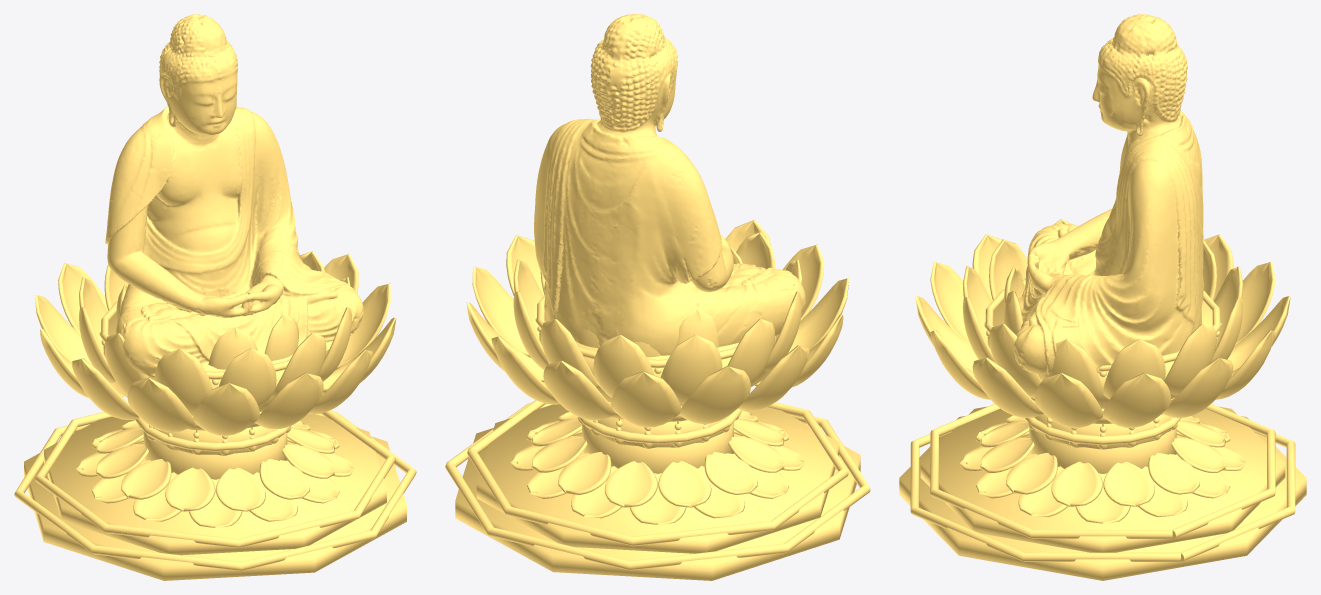
Rendered from amida_full.glb.
3 renders of one model, left to right at view 1: azimuth 30°, elevation 25°; view 2: azimuth 150°, elevation 25°; view 3: azimuth 270°, elevation 25°, orthographic. The views are drawn at different scales.
Visible parts, largest first — view 1: Lotus_Pedestal, Amida_Body; view 2: Lotus_Pedestal, Amida_Body; view 3: Lotus_Pedestal, Amida_Body.
Boxes of the visible parts, x1,y1,x2,y2 form: Lotus_Pedestal: (14, 249, 416, 580); Amida_Body: (105, 14, 363, 379); Lotus_Pedestal: (445, 220, 870, 580); Amida_Body: (534, 14, 805, 355); Lotus_Pedestal: (899, 219, 1306, 580); Amida_Body: (1013, 14, 1203, 375).
Size of the model in its own units: 2.28 by 2.96 by 2.28.
